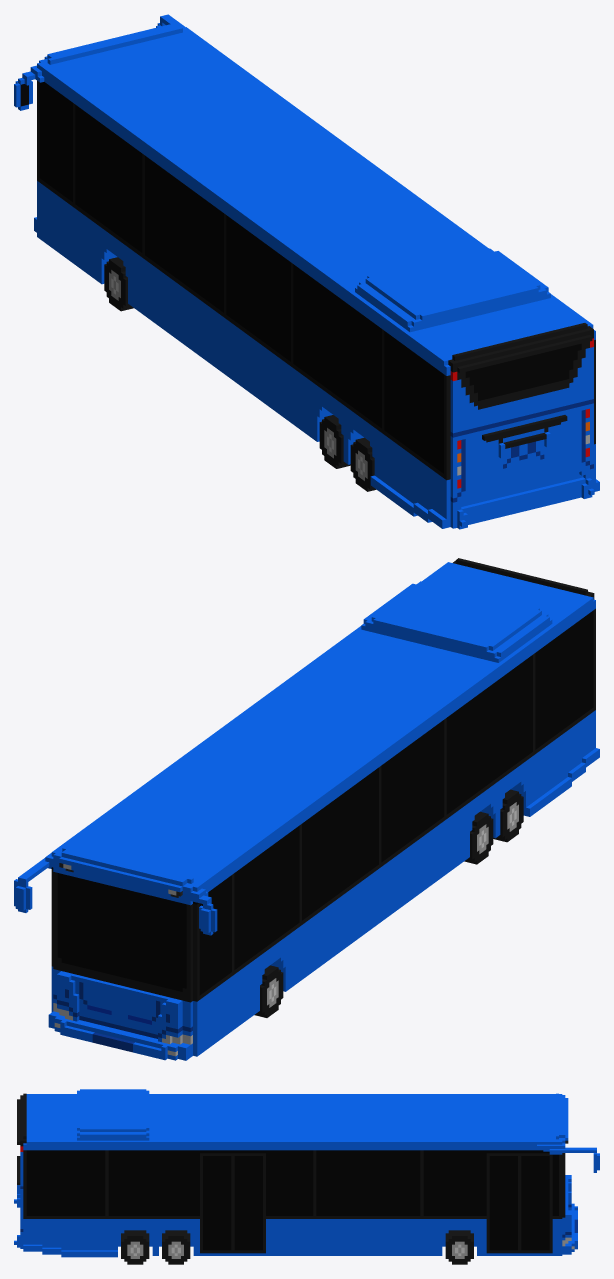
The model's file is bus.glb.
3 views of the same model, one above another, from view 1: azimuth 30°, elevation 25°; view 2: azimuth 150°, elevation 25°; view 3: azimuth 270°, elevation 25° (orthographic). The views are drawn at different scales.
Parts seen in each view (by area): view 1: bus-1; view 2: bus-1; view 3: bus-1.
Boxes of the visible parts, x1,y1,x2,y2 form: bus-1: (14,14,599,529); bus-1: (14,558,599,1060); bus-1: (14,1089,599,1264).
Bounding box in the file's own units: 440 × 460 × 1860.
Materials: 2 (2 with a texture image).
